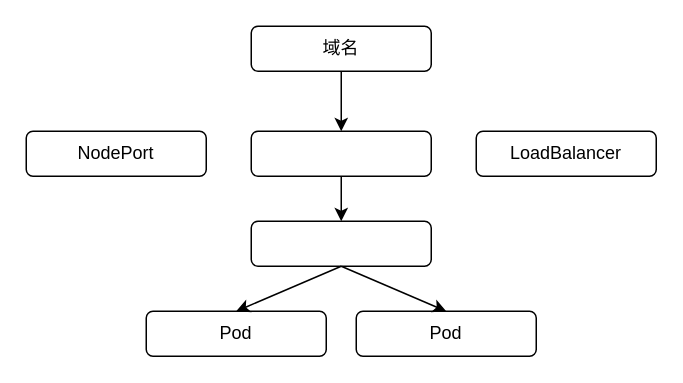
This 683x383 diagram has some shape labels left out. Each missing label, with the centre of its shape:
Ingress: (x=340, y=153)
Service: (x=340, y=243)
